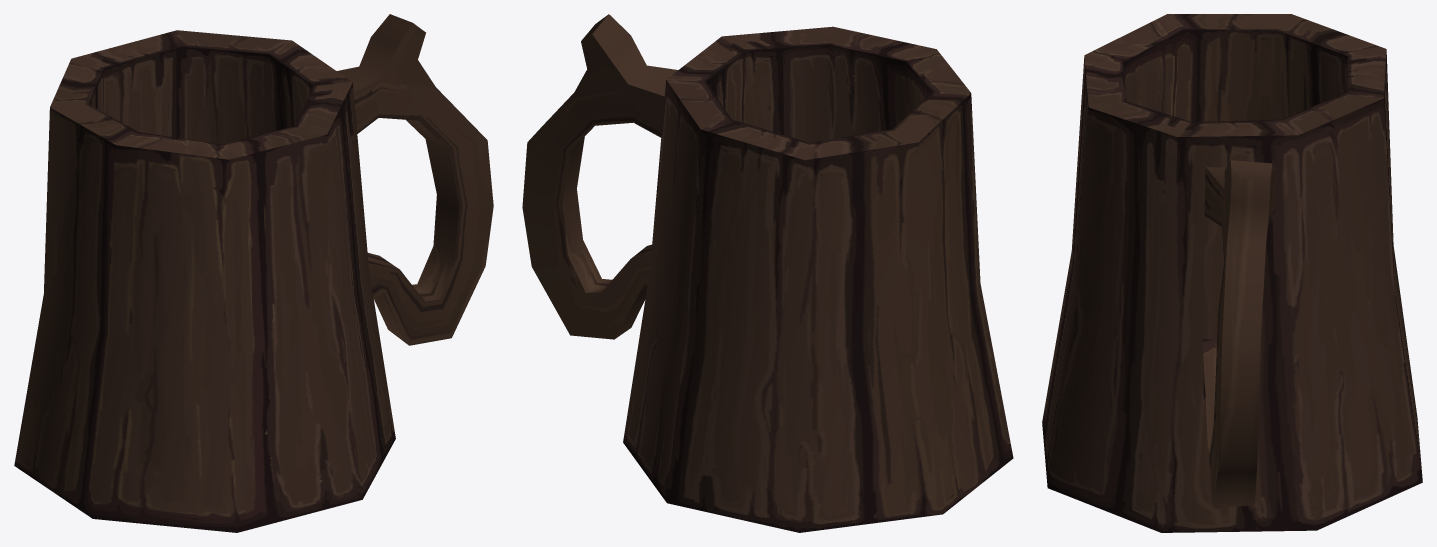
File: SM_PROP_cup_battle_01.fbx
3 renders of one model, left to right at view 1: azimuth 30°, elevation 25°; view 2: azimuth 150°, elevation 25°; view 3: azimuth 270°, elevation 25°, orthographic. The views are drawn at different scales.
Visible parts, largest first — view 1: SM_PROP_cup_battle_01; view 2: SM_PROP_cup_battle_01; view 3: SM_PROP_cup_battle_01.
Boxes of the visible parts, left/top/right/bottom form: SM_PROP_cup_battle_01: left=14, top=14, right=493, bottom=532; SM_PROP_cup_battle_01: left=522, top=14, right=1013, bottom=532; SM_PROP_cup_battle_01: left=1042, top=14, right=1422, bottom=532.
Bounding box in the file's own units: 21.97 × 18.11 × 15.68.
